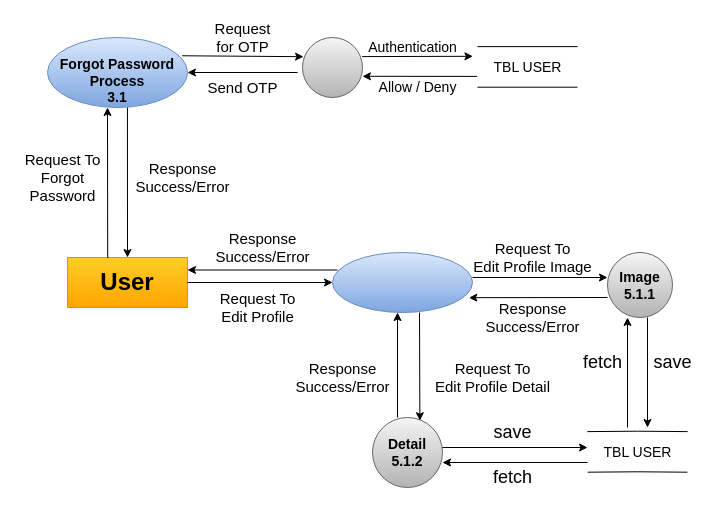
Image size: 714x509. Some labels were removed from this diagram. Each missing label, with the box of its shape:
Edit Profile 5.1: (332, 252, 472, 312)
OTP 3.1.1: (302, 36, 362, 98)
